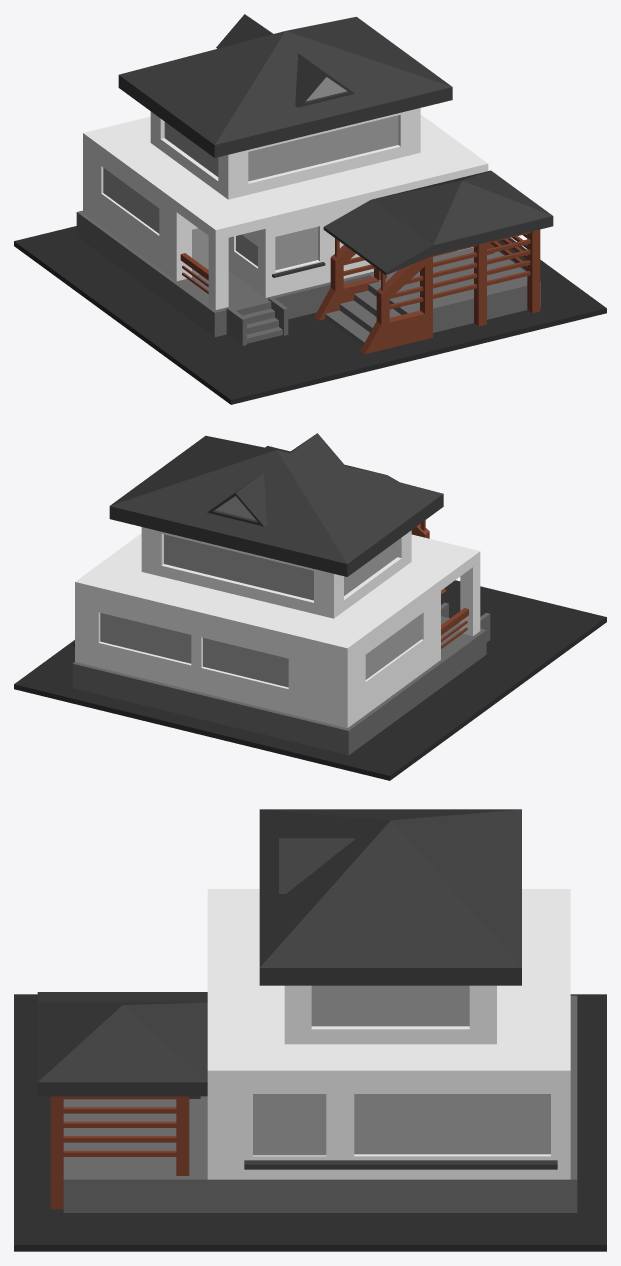
3 renders of one model, top to bottom at view 1: azimuth 30°, elevation 25°; view 2: azimuth 150°, elevation 25°; view 3: azimuth 270°, elevation 25°, orthographic. The views are drawn at different scales.
Visible parts, largest first — view 1: Batiment, RES_T3_16_WEILL_02; view 2: Batiment, RES_T3_16_WEILL_02; view 3: Batiment, RES_T3_16_WEILL_02.
Boxes of the visible parts, left/top/right/bottom form: Batiment: left=76, top=14, right=553, bottom=354; RES_T3_16_WEILL_02: left=14, top=226, right=606, bottom=404; Batiment: left=72, top=433, right=490, bottom=755; RES_T3_16_WEILL_02: left=14, top=580, right=606, bottom=780; Batiment: left=37, top=809, right=577, bottom=1212; RES_T3_16_WEILL_02: left=14, top=994, right=606, bottom=1251.
Size of the model in its own units: 4 by 2.3 by 4.
